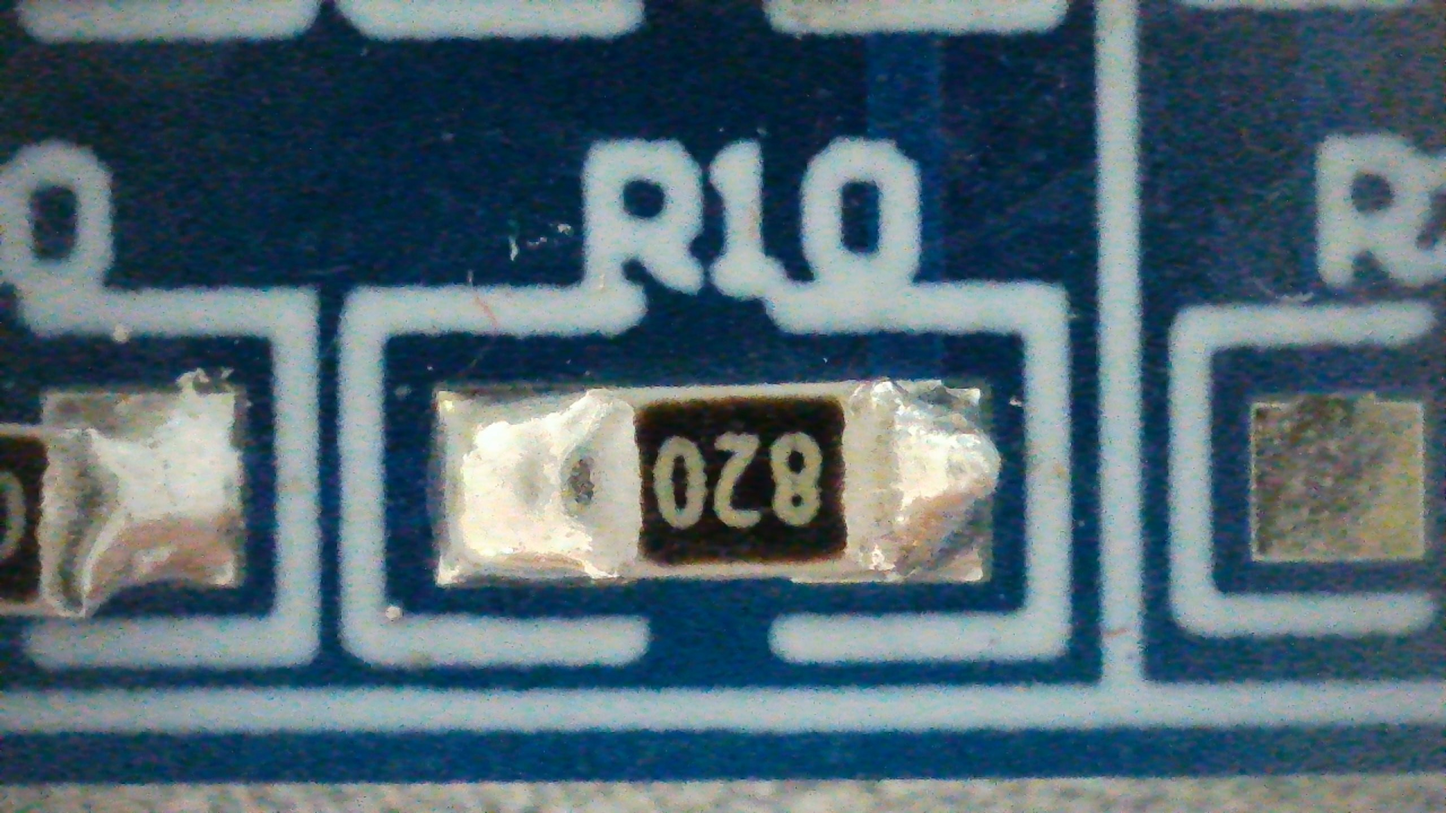OK: (436, 380, 1001, 582)
